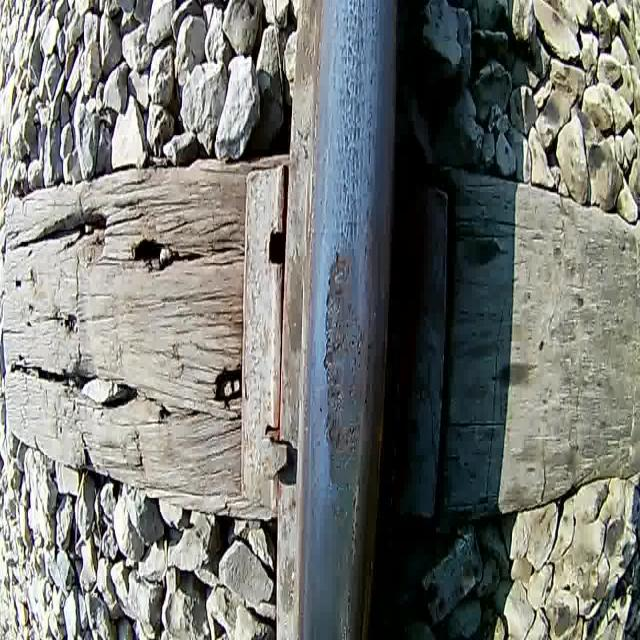Squats: (321, 242, 369, 499)
